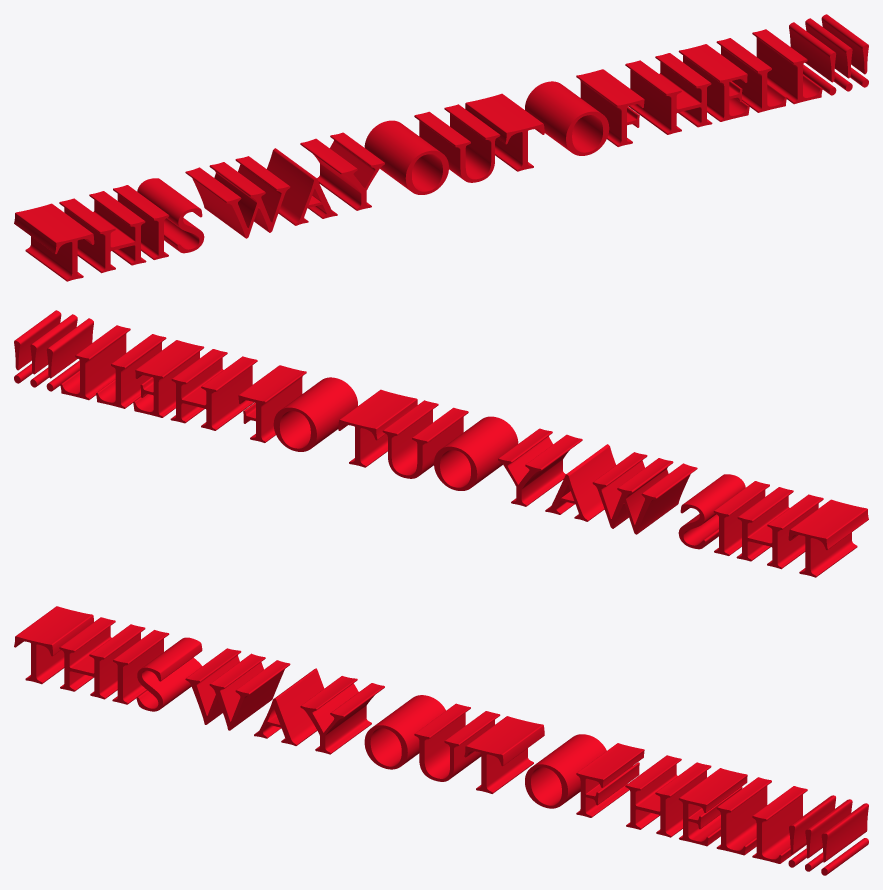
The model's file is OutOfHell.fbx.
The picture shows the model from 3 angles, top to bottom: view 1: azimuth 30°, elevation 25°; view 2: azimuth 150°, elevation 25°; view 3: azimuth 330°, elevation 25°; orthographic projection.
Parts seen in each view (by area): view 1: Text; view 2: Text; view 3: Text.
Part boxes in pixels (left/top/right/bottom): Text: left=14, top=14, right=868, bottom=281; Text: left=14, top=310, right=868, bottom=577; Text: left=14, top=606, right=868, bottom=875.
Bounding box in the file's own units: 1141 × 58.31 × 100.
